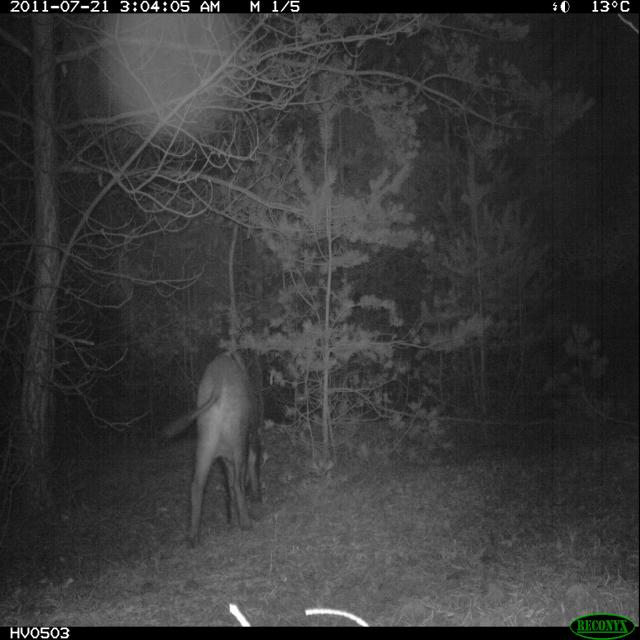boar: (169, 347, 281, 536)
